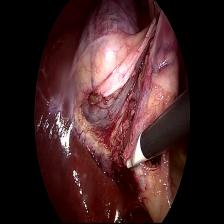Hook: (122, 135, 146, 170)
